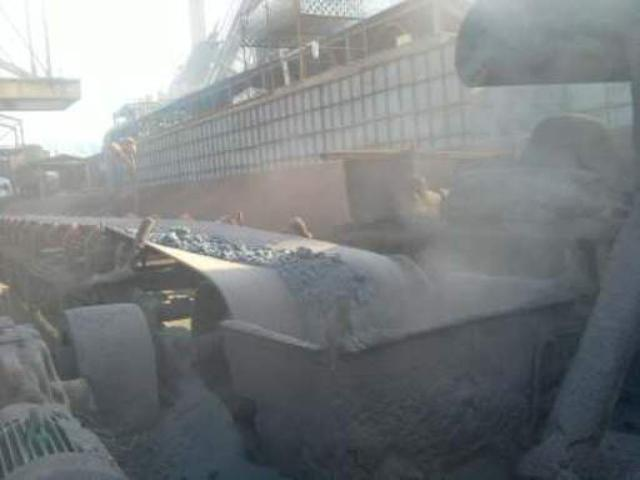conveyor: (4, 192, 418, 344)
